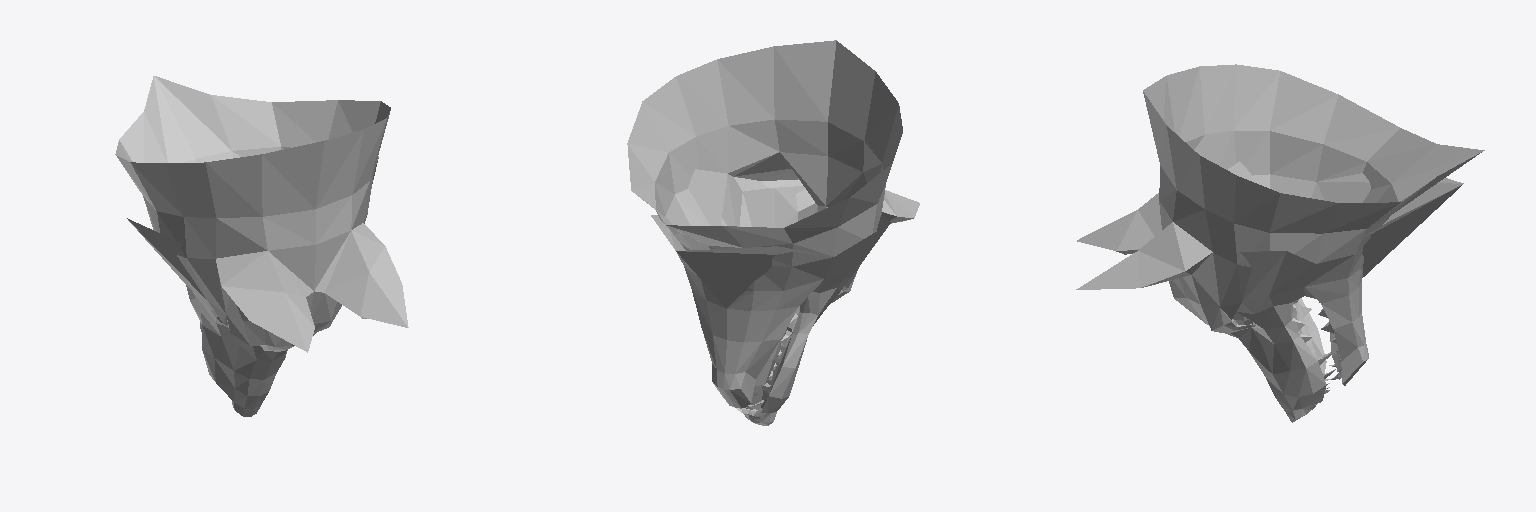
The model's file is tete.obj.
3 views of the same model, side by side, from view 1: azimuth 30°, elevation 25°; view 2: azimuth 150°, elevation 25°; view 3: azimuth 270°, elevation 25° (orthographic).
Parts seen in each view (by area): view 1: tete_Wolf; view 2: tete_Wolf; view 3: tete_Wolf.
Part boxes in pixels (x1,y1,x2,y2): tete_Wolf: (115, 76, 408, 416); tete_Wolf: (627, 40, 919, 425); tete_Wolf: (1076, 64, 1484, 422).
Size of the model in its own units: 20.49 by 25.58 by 28.68.